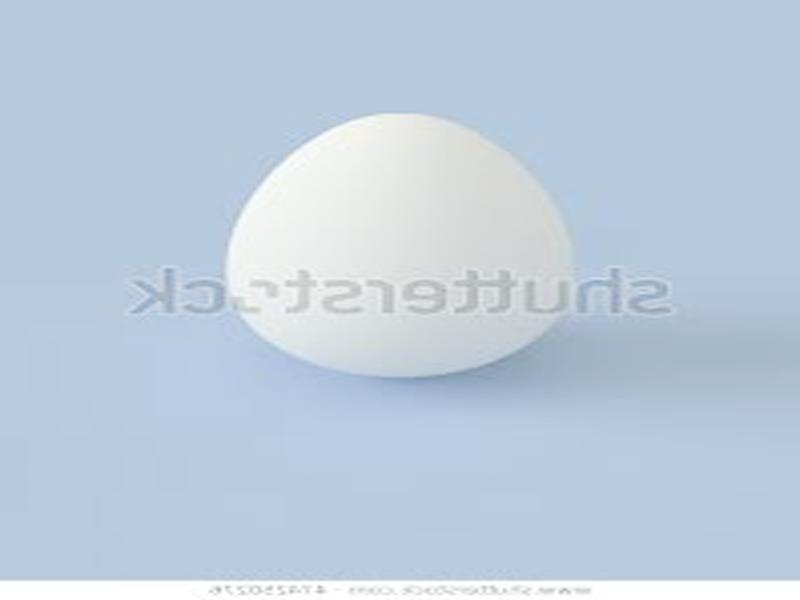Eggs: (224, 114, 574, 379)
